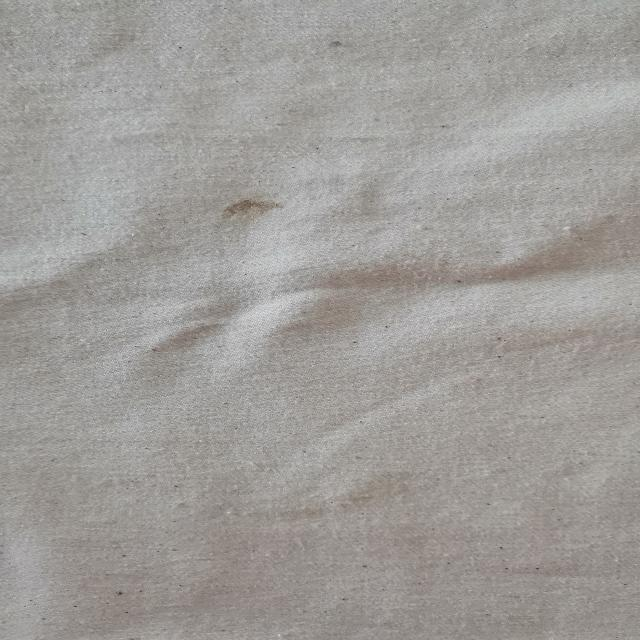taaaches: (198, 184, 314, 237)
